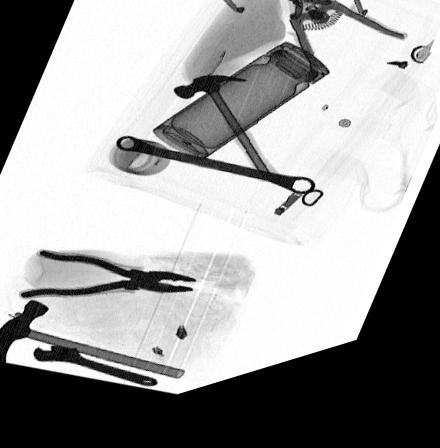Hammer: (0, 301, 189, 390), (171, 85, 281, 198)
Pliers: (270, 0, 409, 100), (16, 249, 203, 302)
Wrench: (116, 140, 316, 211), (35, 344, 162, 394)
